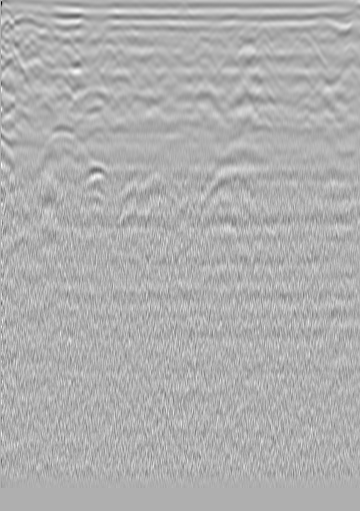가스: (77, 158, 115, 187)
상수: (293, 25, 313, 45)
오수: (14, 34, 34, 54)
우수: (186, 34, 206, 54)
